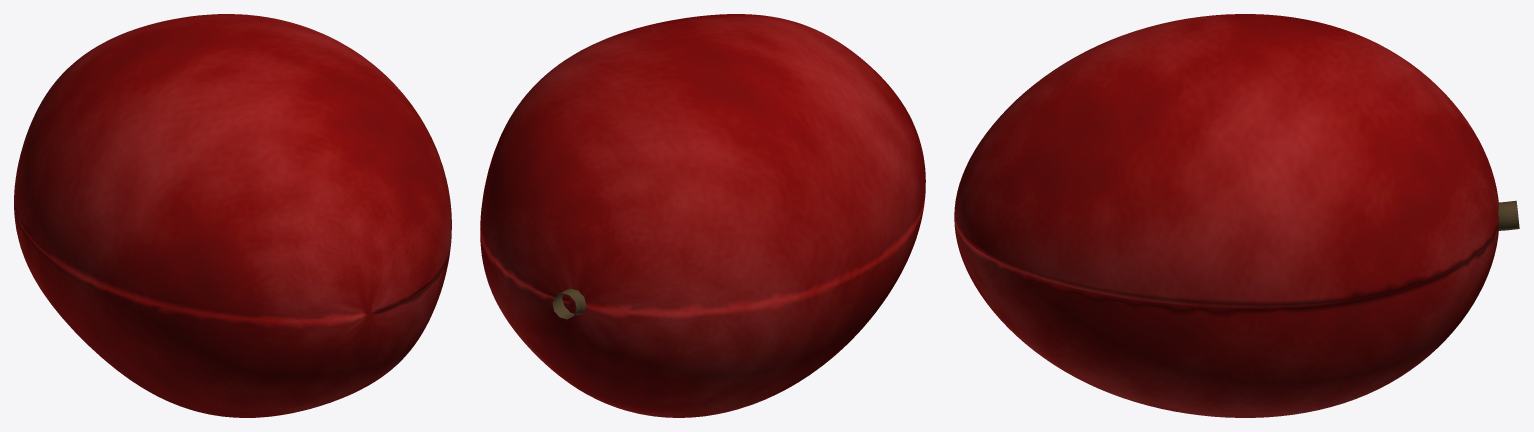
File: cherry.glb
3 views of the same model, side by side, from view 1: azimuth 30°, elevation 25°; view 2: azimuth 150°, elevation 25°; view 3: azimuth 270°, elevation 25° (orthographic). The views are drawn at different scales.
Visible parts, largest first — view 1: Skin_A, Skin_B; view 2: Skin_A, Skin_B, Calyx; view 3: Skin_A, Skin_B, Calyx.
Boxes of the visible parts, x1,y1,x2,y2 form: Skin_A: (14,14,451,321); Skin_B: (14,204,450,417); Skin_A: (480,14,925,313); Skin_B: (480,203,924,417); Calyx: (552,288,586,319); Skin_A: (954,14,1498,307); Skin_B: (954,219,1498,417); Calyx: (1498,200,1519,230).
Size of the model in its own units: 0.0152 by 0.014 by 0.0198.
Materials: 7 (6 with a texture image).
